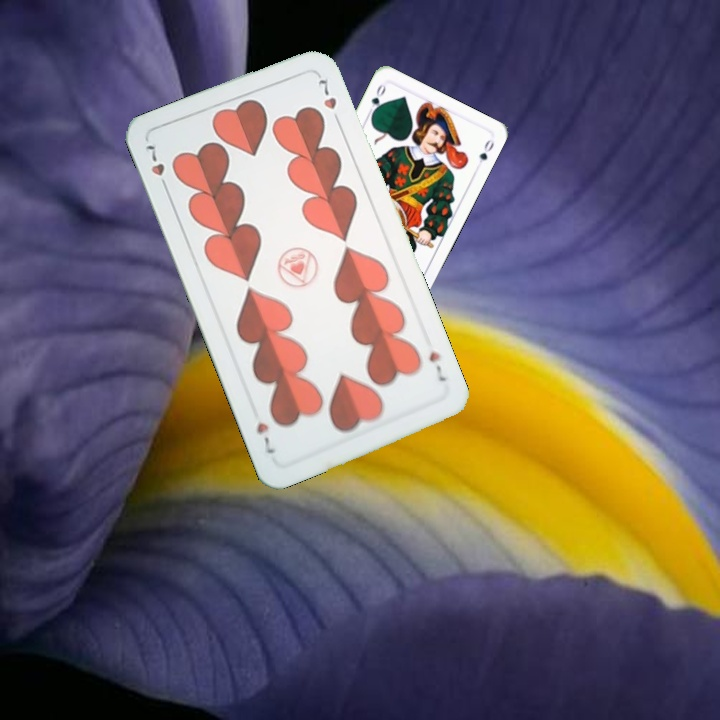GO: (363, 80, 388, 119)
H7: (141, 141, 171, 195), (425, 347, 449, 384)
